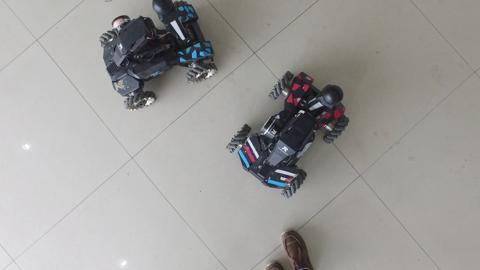chariot: (226, 67, 355, 198), (93, 1, 226, 116)
